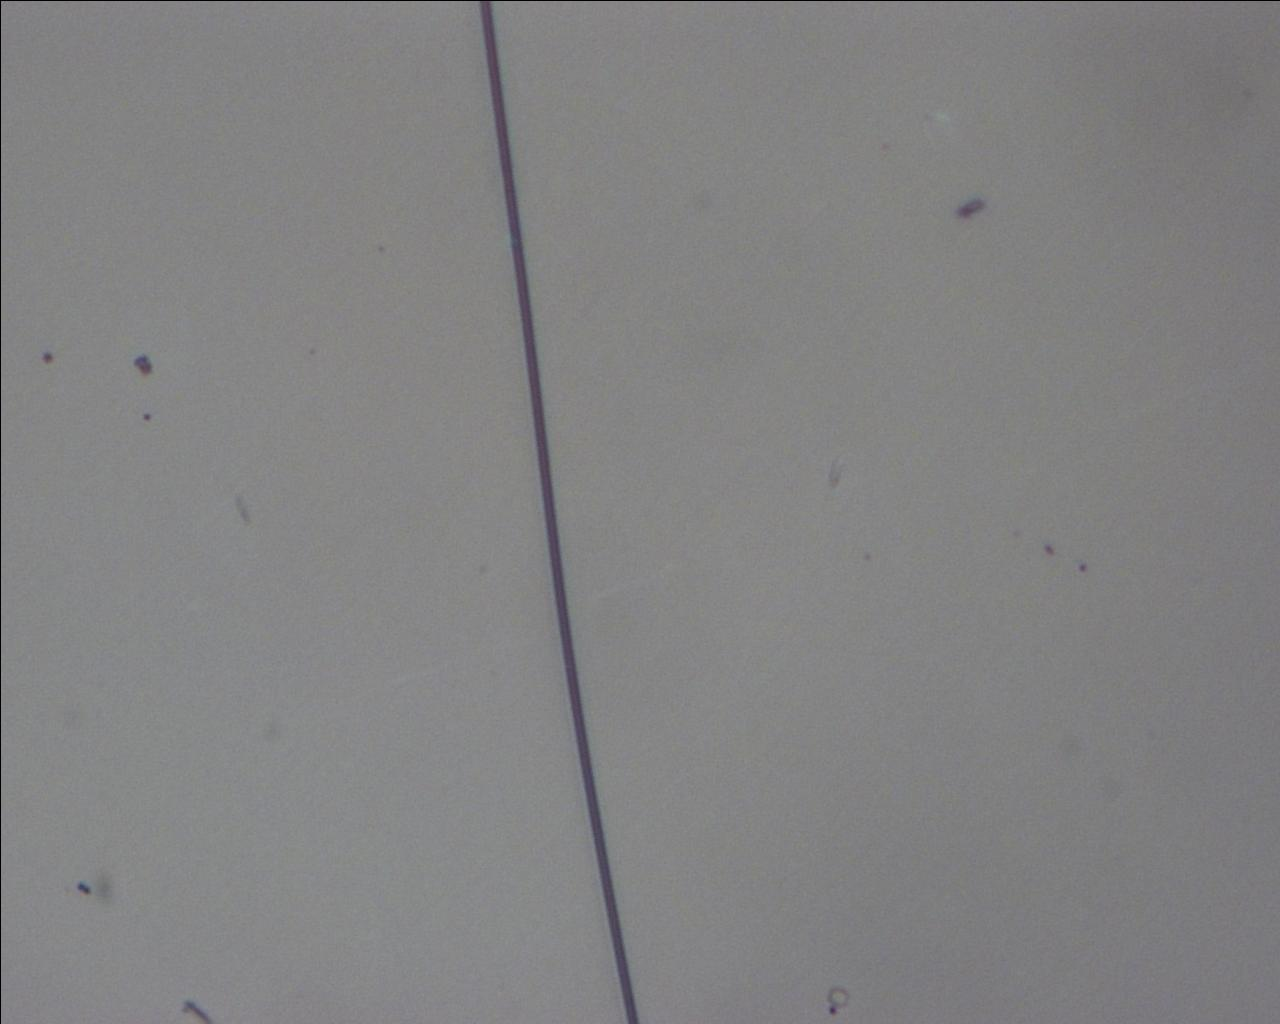fiber: (476, 0, 638, 1024)
